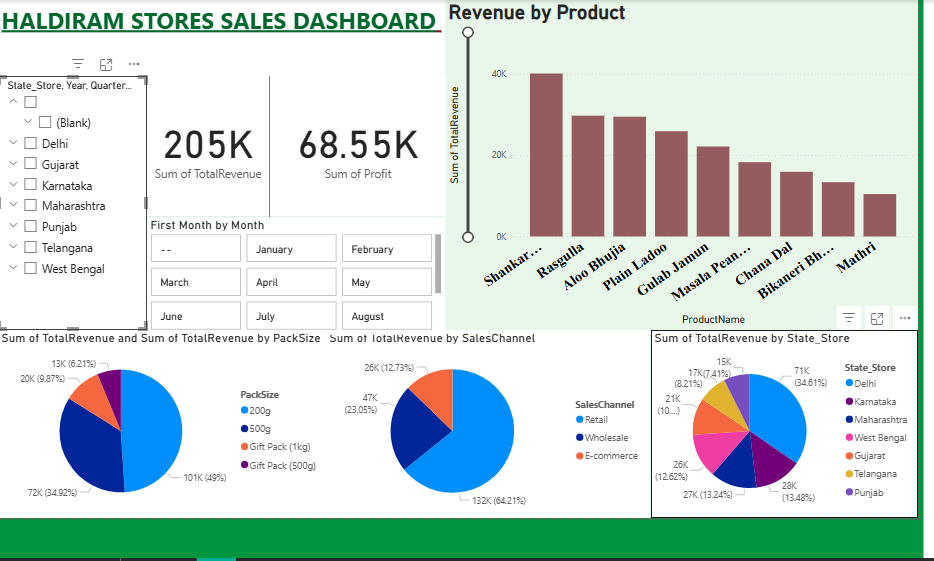

What the dashboard file says about the page in this screenshot:
{"tool":"powerbi","page":{"name":"Page 1","canvas":[1280,720],"ordinal":0},"visuals":[{"type":"columnChart","title":"Revenue by Product","fields":{"Category":["HALDIRAM-C (2).ProductName"],"Y":["Sum(HALDIRAM-C (2).TotalRevenue)"]},"box":[622.4,0,656.9,458],"z":0},{"type":"actionButton","box":[0,0,100,40],"z":1000},{"type":"pieChart","fields":{"Y":["Sum(HALDIRAM-C (2).TotalRevenue)"],"Category":["HALDIRAM-C (2).SalesChannel"]},"box":[456.9,458.6,451.7,262.1],"z":2000},{"type":"pieChart","fields":{"Y":["Sum(HALDIRAM-C (2).TotalRevenue)"],"Category":["HALDIRAM-C (2).State_Store"]},"box":[908.6,458.6,370.7,262.1],"z":3000},{"type":"card","fields":{"Values":["Sum(HALDIRAM-C (2).TotalRevenue)"]},"box":[207.3,105.7,169.7,196.2],"z":4000},{"type":"card","fields":{"Values":["Sum(HALDIRAM-C (2).Profit)"]},"box":[378.4,105.7,244.9,196.2],"z":5000},{"type":"slicer","fields":{"Values":["HALDIRAM-C (2).State_Store","HALDIRAM-C (2).OrderDate.Variation.Date Hierarchy.Year","HALDIRAM-C (2).OrderDate.Variation.Date Hierarchy.Quarter","HALDIRAM-C (2).OrderDate.Variation.Date Hierarchy.Month","HALDIRAM-C (2).OrderDate.Variation.Date Hierarchy.Day"]},"box":[0,105.7,207.3,353.4],"z":6000},{"type":"advancedSlicerVisual","fields":{"Values":["HALDIRAM-C (2).OrderDate.Variation.Date Hierarchy.Month"]},"box":[207.3,301.9,414.6,164.2],"z":7000},{"type":"pieChart","fields":{"Y":["Sum(HALDIRAM-C (2).TotalRevenue)","Sum(HALDIRAM-C (2).TotalRevenue)"],"Category":["HALDIRAM-C (2).PackSize"]},"box":[0,458.6,456.9,262.1],"z":8000},{"type":"textbox","box":[0,0,621.9,105.7],"z":8001}]}

Visuals, with their boxes in screenshot pixels (x1, y1, x2, y2):
"Revenue by Product" columnChart: box=[464, 15, 920, 332]
actionButton: box=[32, 15, 101, 42]
pieChart - Sum(HALDIRAM-C (2).TotalRevenue) x HALDIRAM-C (2).SalesChannel: box=[349, 333, 662, 515]
pieChart - Sum(HALDIRAM-C (2).TotalRevenue) x HALDIRAM-C (2).State_Store: box=[662, 333, 920, 515]
card - Sum(HALDIRAM-C (2).TotalRevenue): box=[176, 88, 293, 224]
card - Sum(HALDIRAM-C (2).Profit): box=[294, 88, 464, 224]
slicer - HALDIRAM-C (2).State_Store x HALDIRAM-C (2).OrderDate.Variation.Date Hierarchy.Year: box=[32, 88, 176, 333]
advancedSlicerVisual - HALDIRAM-C (2).OrderDate.Variation.Date Hierarchy.Month: box=[176, 224, 463, 338]
pieChart - Sum(HALDIRAM-C (2).TotalRevenue) x Sum(HALDIRAM-C (2).TotalRevenue): box=[32, 333, 349, 515]
textbox: box=[32, 15, 463, 88]
